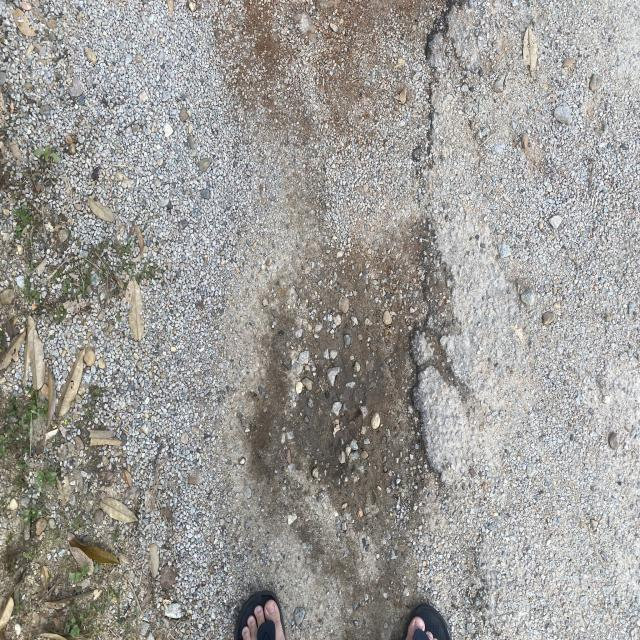Pothole: (227, 198, 508, 560), (313, 28, 462, 139)
